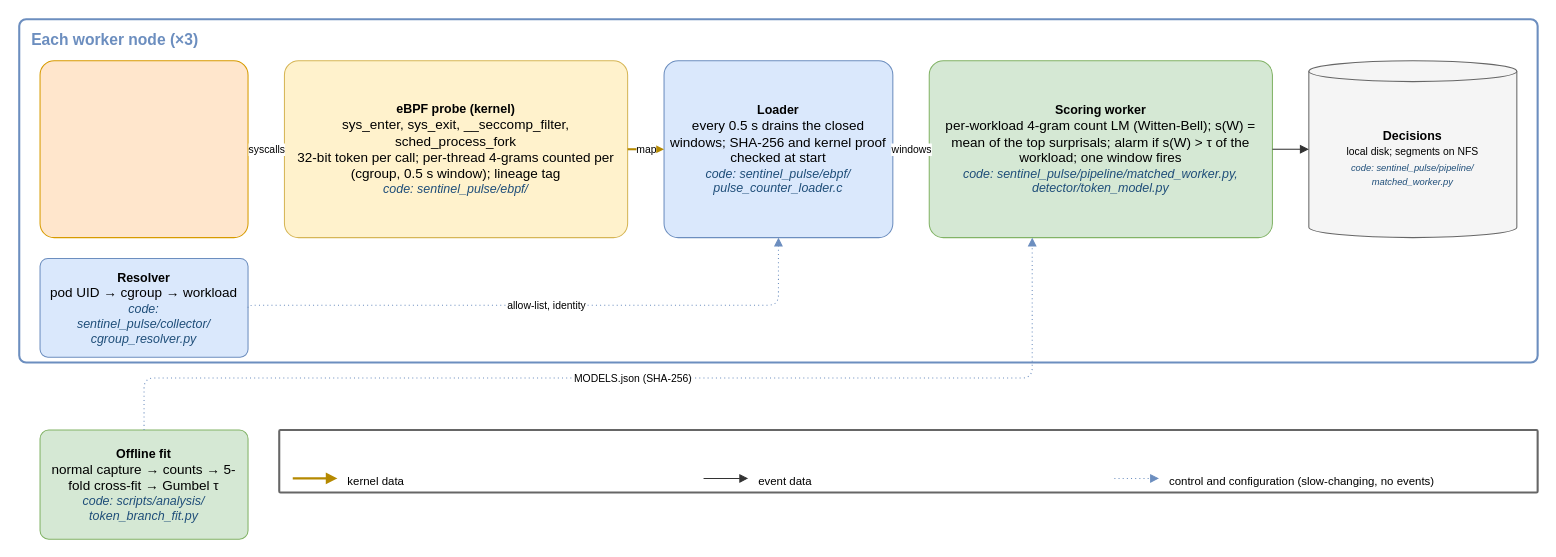
The diagram is 1556 pixels wide and 557 high, and some of its shapes have lost their labels. Each missing label, with the box of its shape:
Application containers namespace production; one cgroup each; unmodified: (39, 60, 248, 238)
Arrows: (278, 428, 1538, 493)
